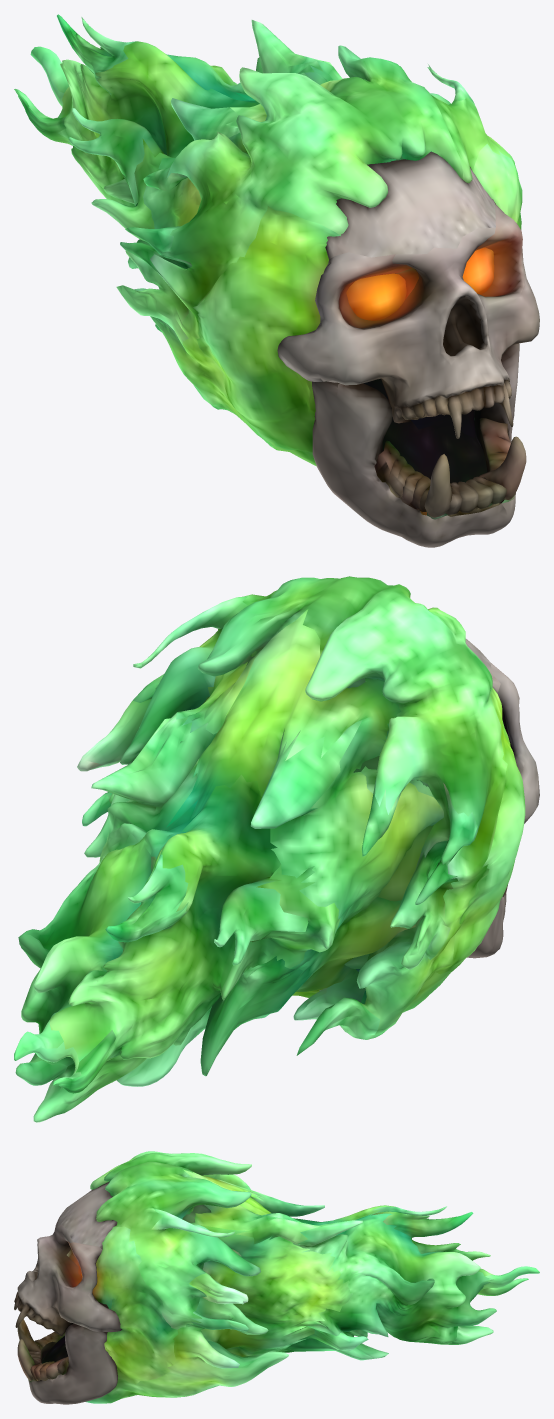
File: MZ4250 - Flaming Skull_Orc_2025.glb
3 views of the same model, one above another, from view 1: azimuth 30°, elevation 25°; view 2: azimuth 150°, elevation 25°; view 3: azimuth 270°, elevation 25° (orthographic). The views are drawn at different scales.
Visible parts, largest first — view 1: Fire Bolt.001; view 2: Fire Bolt.001; view 3: Fire Bolt.001.
Boxes of the visible parts, box(x1,y1,x2,y2) form: Fire Bolt.001: box(14, 14, 539, 547); Fire Bolt.001: box(14, 576, 539, 1122); Fire Bolt.001: box(14, 1151, 539, 1404).
Size of the model in its own units: 11.91 by 13.09 by 26.89.
1 material, 1 textured.
